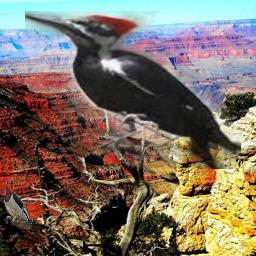Woodpecker: (25, 11, 241, 169), (3, 176, 33, 229)
